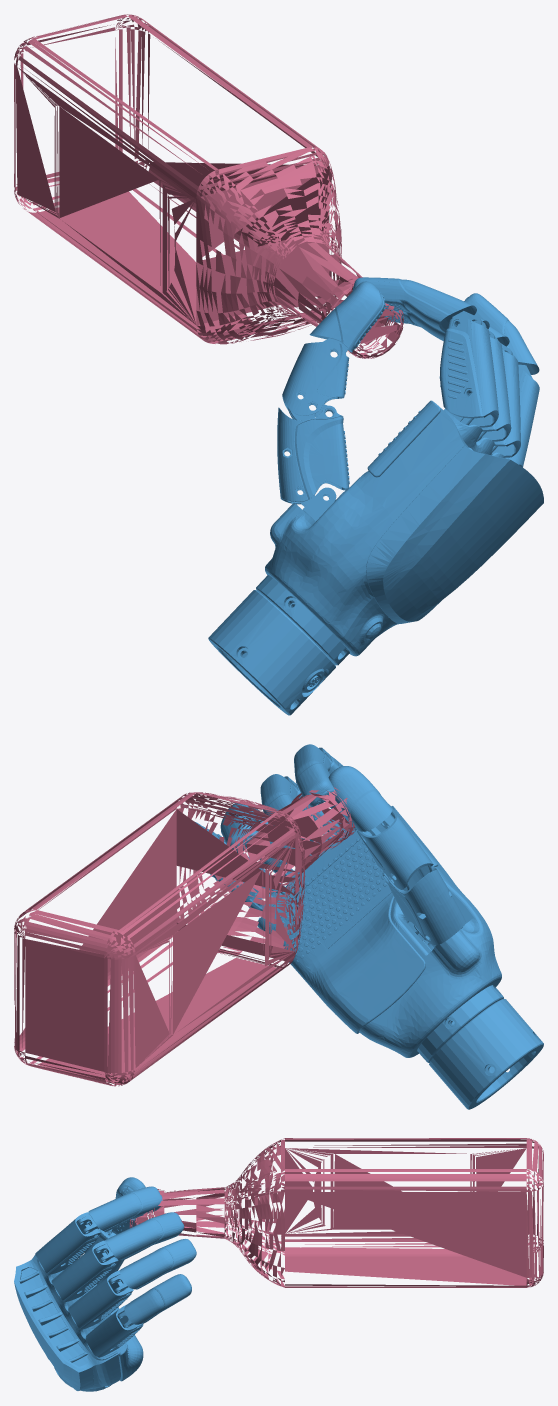
3 views of the same model, one above another, from view 1: azimuth 30°, elevation 25°; view 2: azimuth 150°, elevation 25°; view 3: azimuth 270°, elevation 25° (orthographic). The views are drawn at different scales.
Parts seen in each view (by area): view 1: 8; view 2: 8; view 3: 8.
Part boxes in pixels (left/top/right/bottom): 8: left=14, top=14, right=543, bottom=715; 8: left=14, top=744, right=543, bottom=1109; 8: left=14, top=1138, right=543, bottom=1391.
Bounding box in the file's own units: 0.1789 × 0.2013 × 0.3464.
